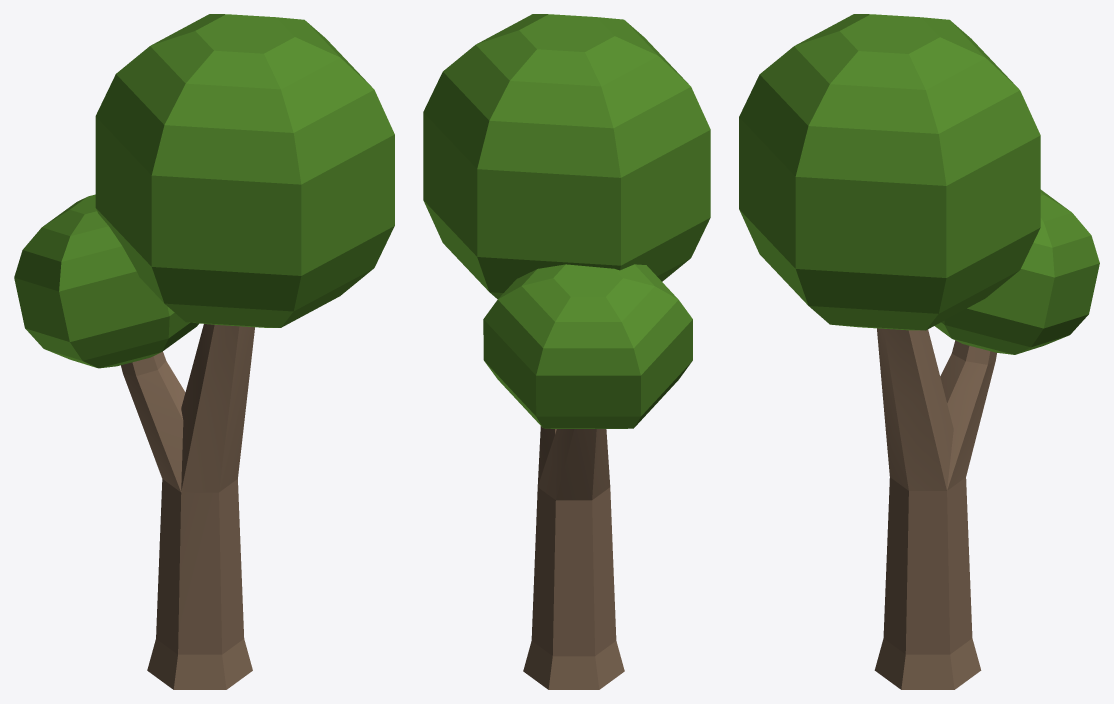
The model's file is Hilly_Prop_Tree_Oak_3.obj.
The picture shows the model from 3 angles, left to right: view 1: azimuth 30°, elevation 25°; view 2: azimuth 150°, elevation 25°; view 3: azimuth 270°, elevation 25°; orthographic projection. The views are drawn at different scales.
Parts seen in each view (by area): view 1: object3, object2, object1; view 2: object3, object1, object2; view 3: object3, object2, object1.
Boxes of the visible parts, left/top/right/bottom form: object3: left=95, top=14, right=394, bottom=327; object2: left=121, top=324, right=254, bottom=689; object1: left=14, top=194, right=199, bottom=368; object3: left=423, top=14, right=710, bottom=299; object1: left=483, top=264, right=692, bottom=428; object2: left=523, top=426, right=624, bottom=689; object3: left=739, top=14, right=1040, bottom=330; object2: left=874, top=328, right=996, bottom=689; object1: left=935, top=189, right=1099, bottom=354.
Bounding box in the file's own units: 2.14 × 4.7 × 2.37.
